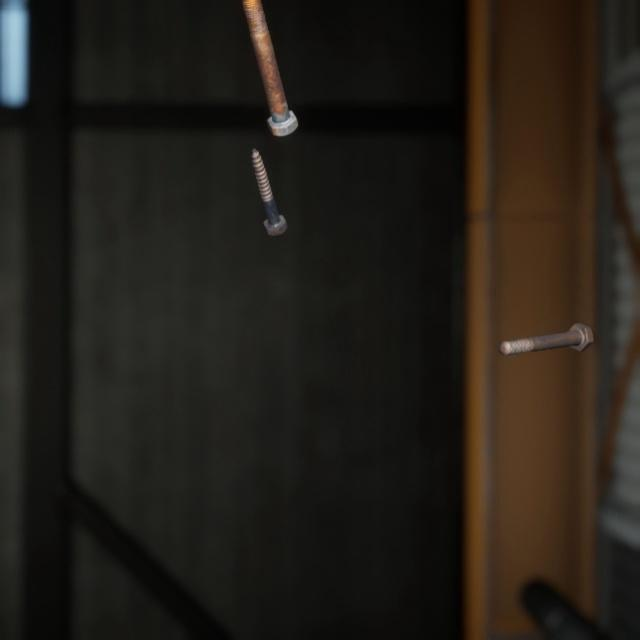bolt: (239, 0, 302, 130), (246, 128, 292, 225), (494, 300, 597, 341)
